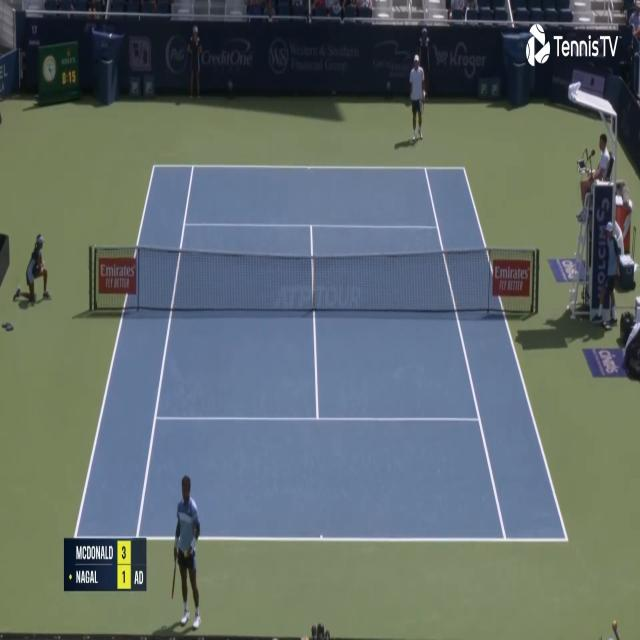tennis-player: (169, 471, 204, 634), (406, 51, 427, 142)
